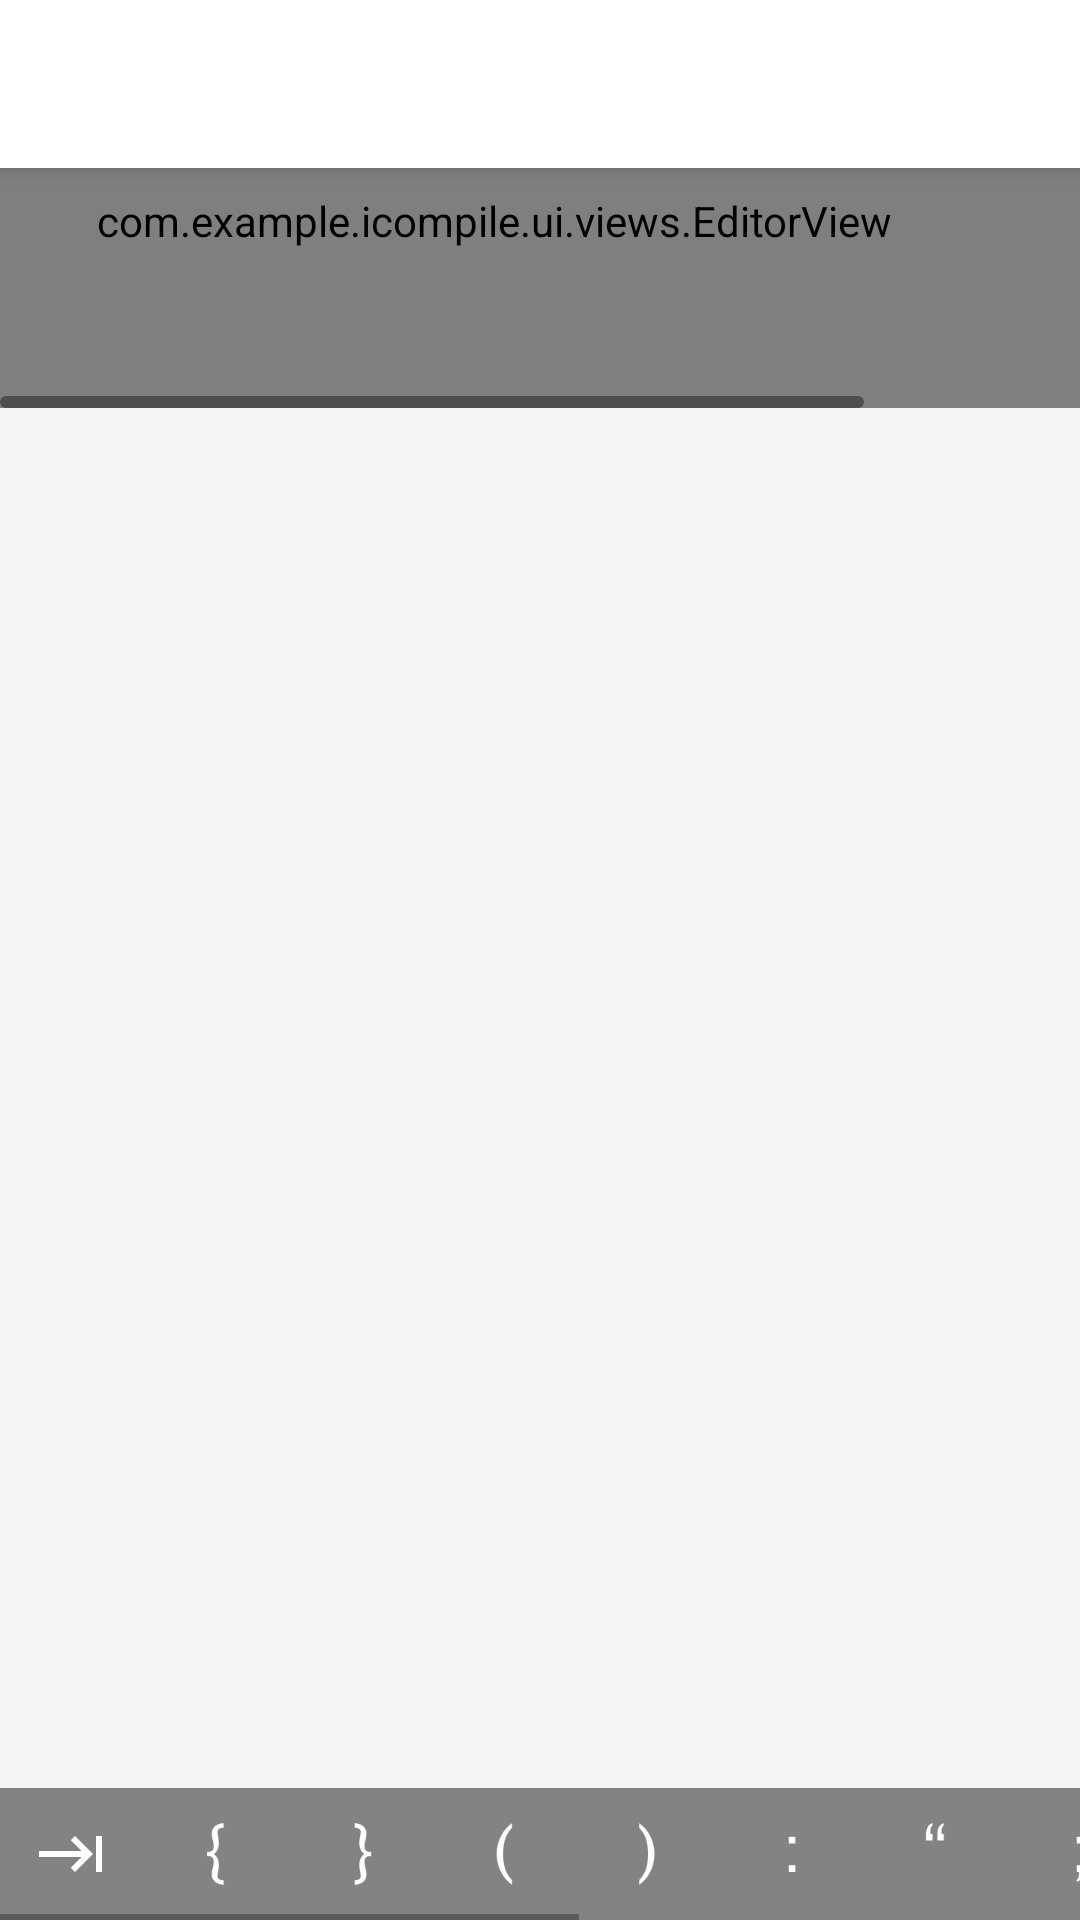

Point at icon controls on the screen. Image size 1080 × 1920, points as (x=x, y=y).
colon: (x=792, y=1854)
keyboard tab: (x=72, y=1854)
